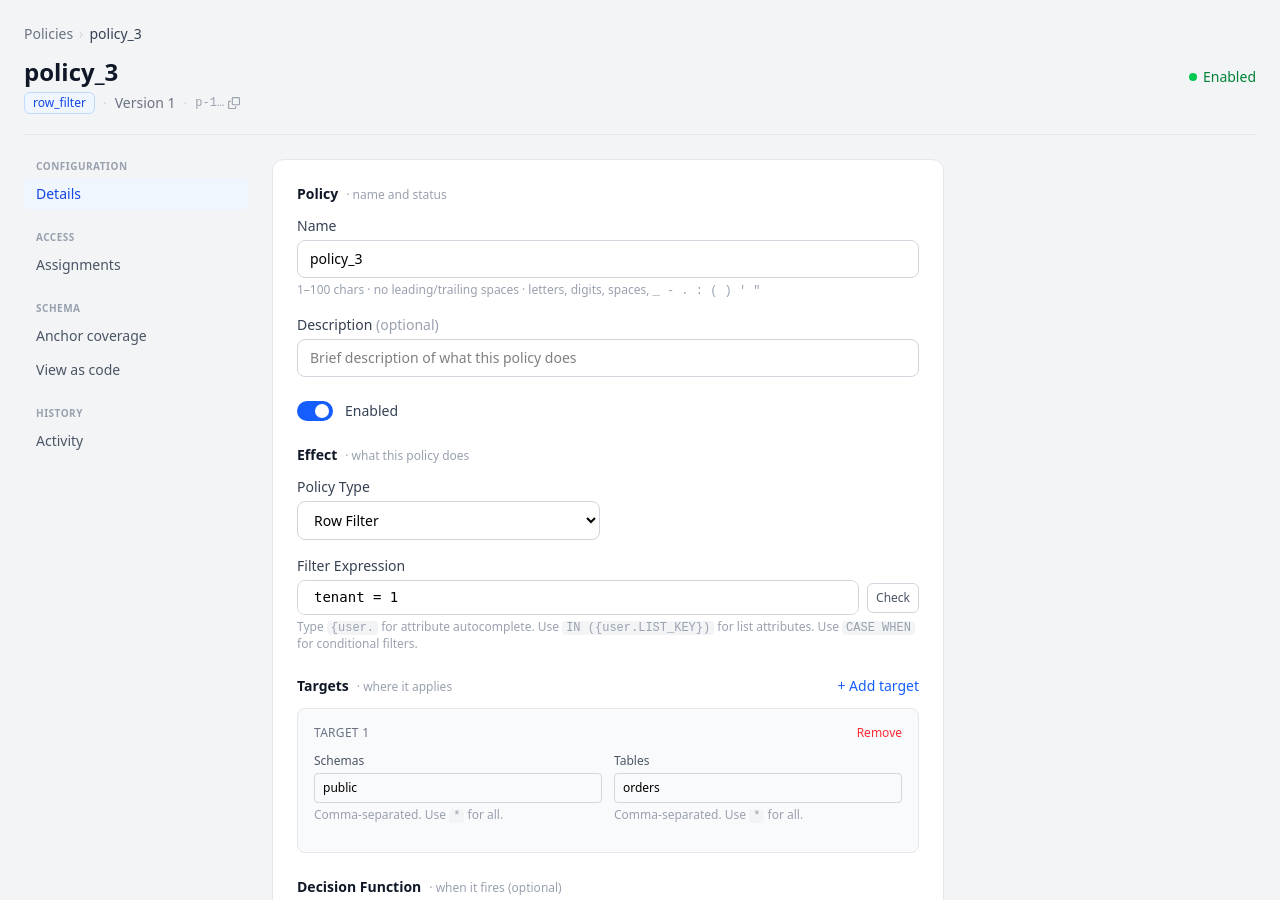
Test case: PolicyEditPage › shows Assignments section content after clicking its nav item
The width and height of the screenshot is (1280, 900).
Click the button "Assignments".
click(136, 265)  # box [24,249,248,281]
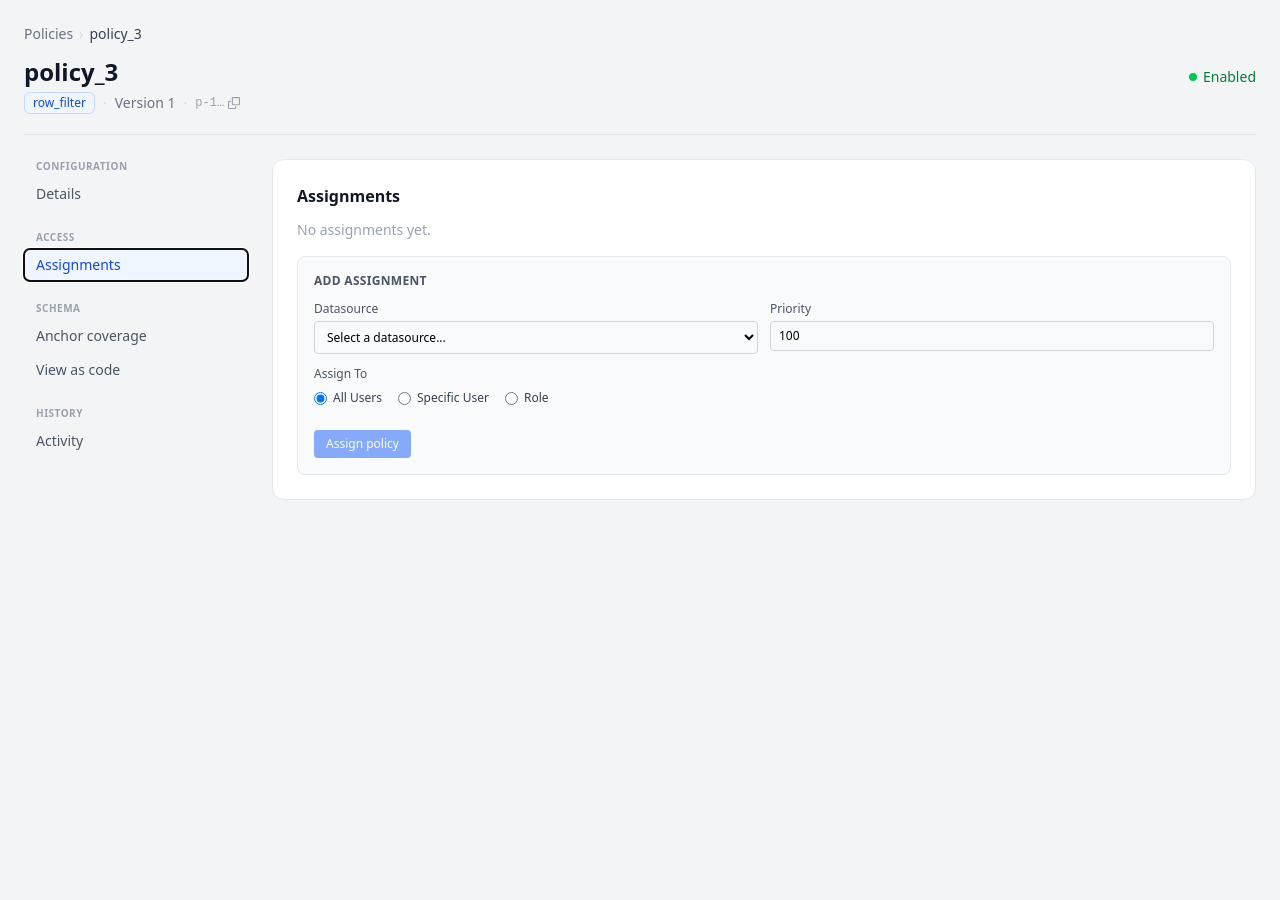
Check: the button "Assign policy" is shown, box [314,430,411,458]
